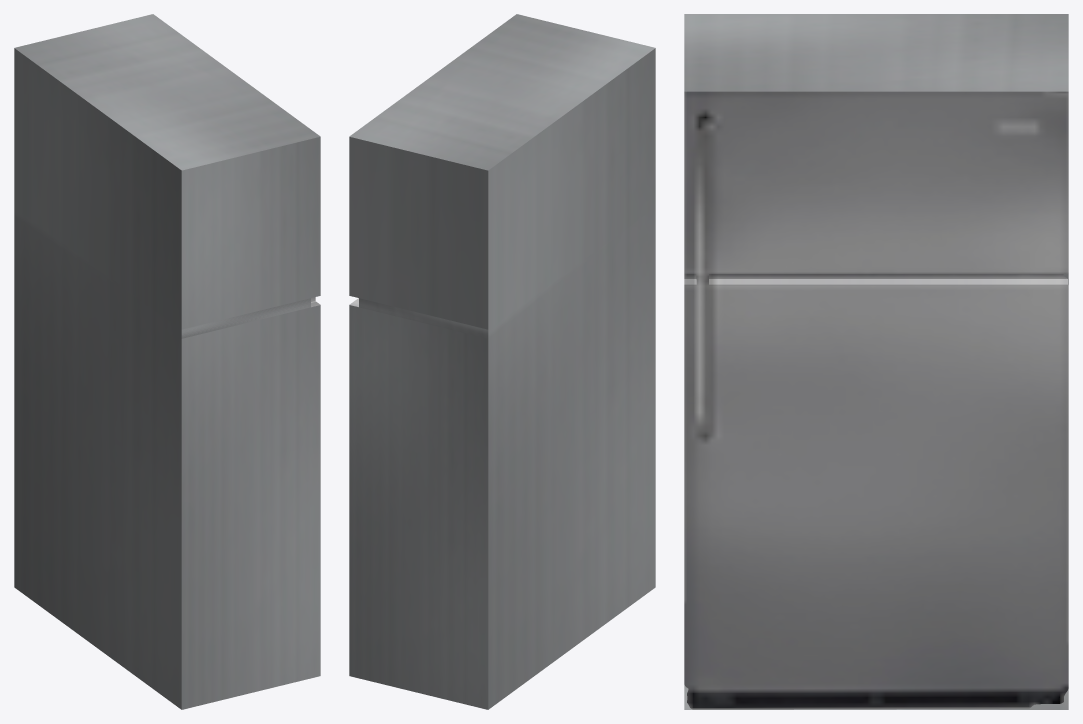
Rendered from Frige.fbx.
3 renders of one model, left to right at view 1: azimuth 30°, elevation 25°; view 2: azimuth 150°, elevation 25°; view 3: azimuth 270°, elevation 25°, orthographic. The views are drawn at different scales.
Visible parts, largest first — view 1: Frige; view 2: Frige; view 3: Frige.
Part boxes in pixels (x1,y1,x2,y2): Frige: [14, 14, 320, 709]; Frige: [349, 14, 655, 709]; Frige: [684, 14, 1068, 709].
Size of the model in its own units: 200 by 741 by 418.
